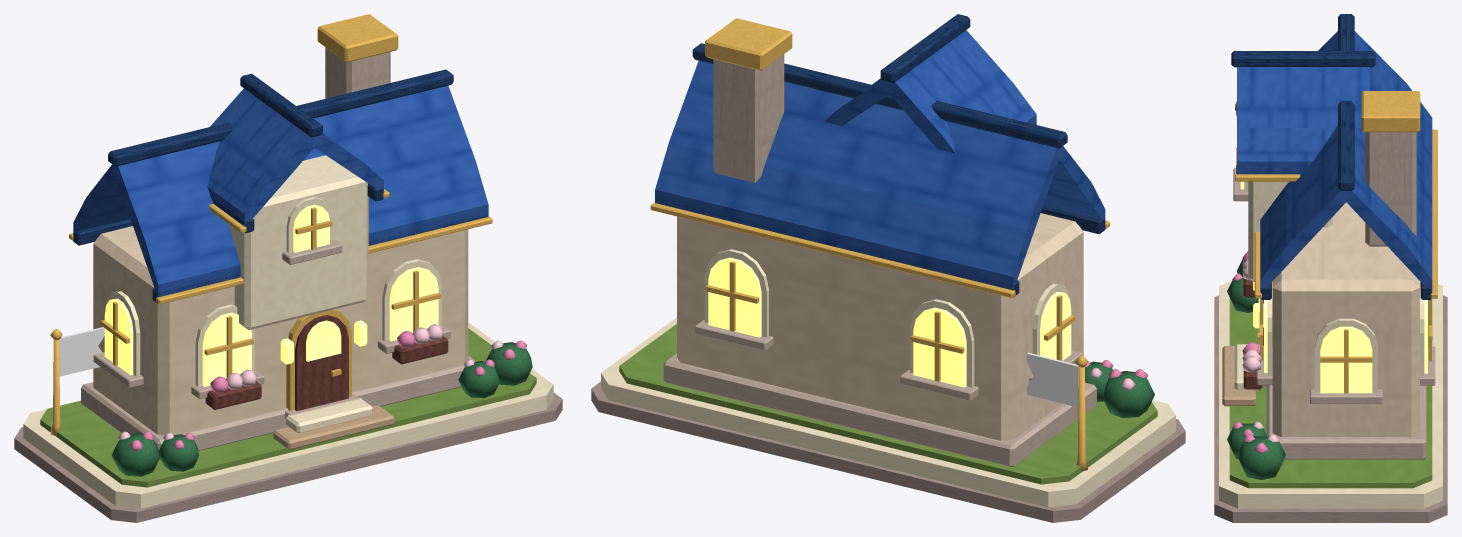
File: house.glb
The picture shows the model from 3 angles, left to right: view 1: azimuth 30°, elevation 25°; view 2: azimuth 150°, elevation 25°; view 3: azimuth 270°, elevation 25°; orthographic projection. The views are drawn at different scales.
Visible parts, largest first — view 1: arcade-house; view 2: arcade-house; view 3: arcade-house.
Part boxes in pixels (<box>): arcade-house: <box>14,14,562,522</box>; arcade-house: <box>591,14,1185,522</box>; arcade-house: <box>1214,14,1447,522</box>.
Size of the model in its own units: 1.48 by 1.1 by 0.654.
Materials: 5 (4 with a texture image).
